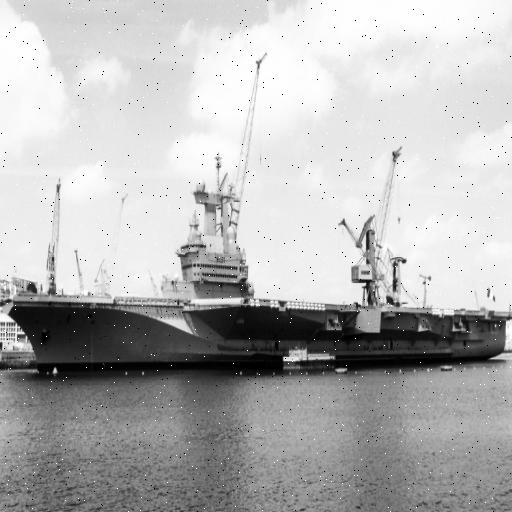Portanaves: (1, 194, 512, 381)
